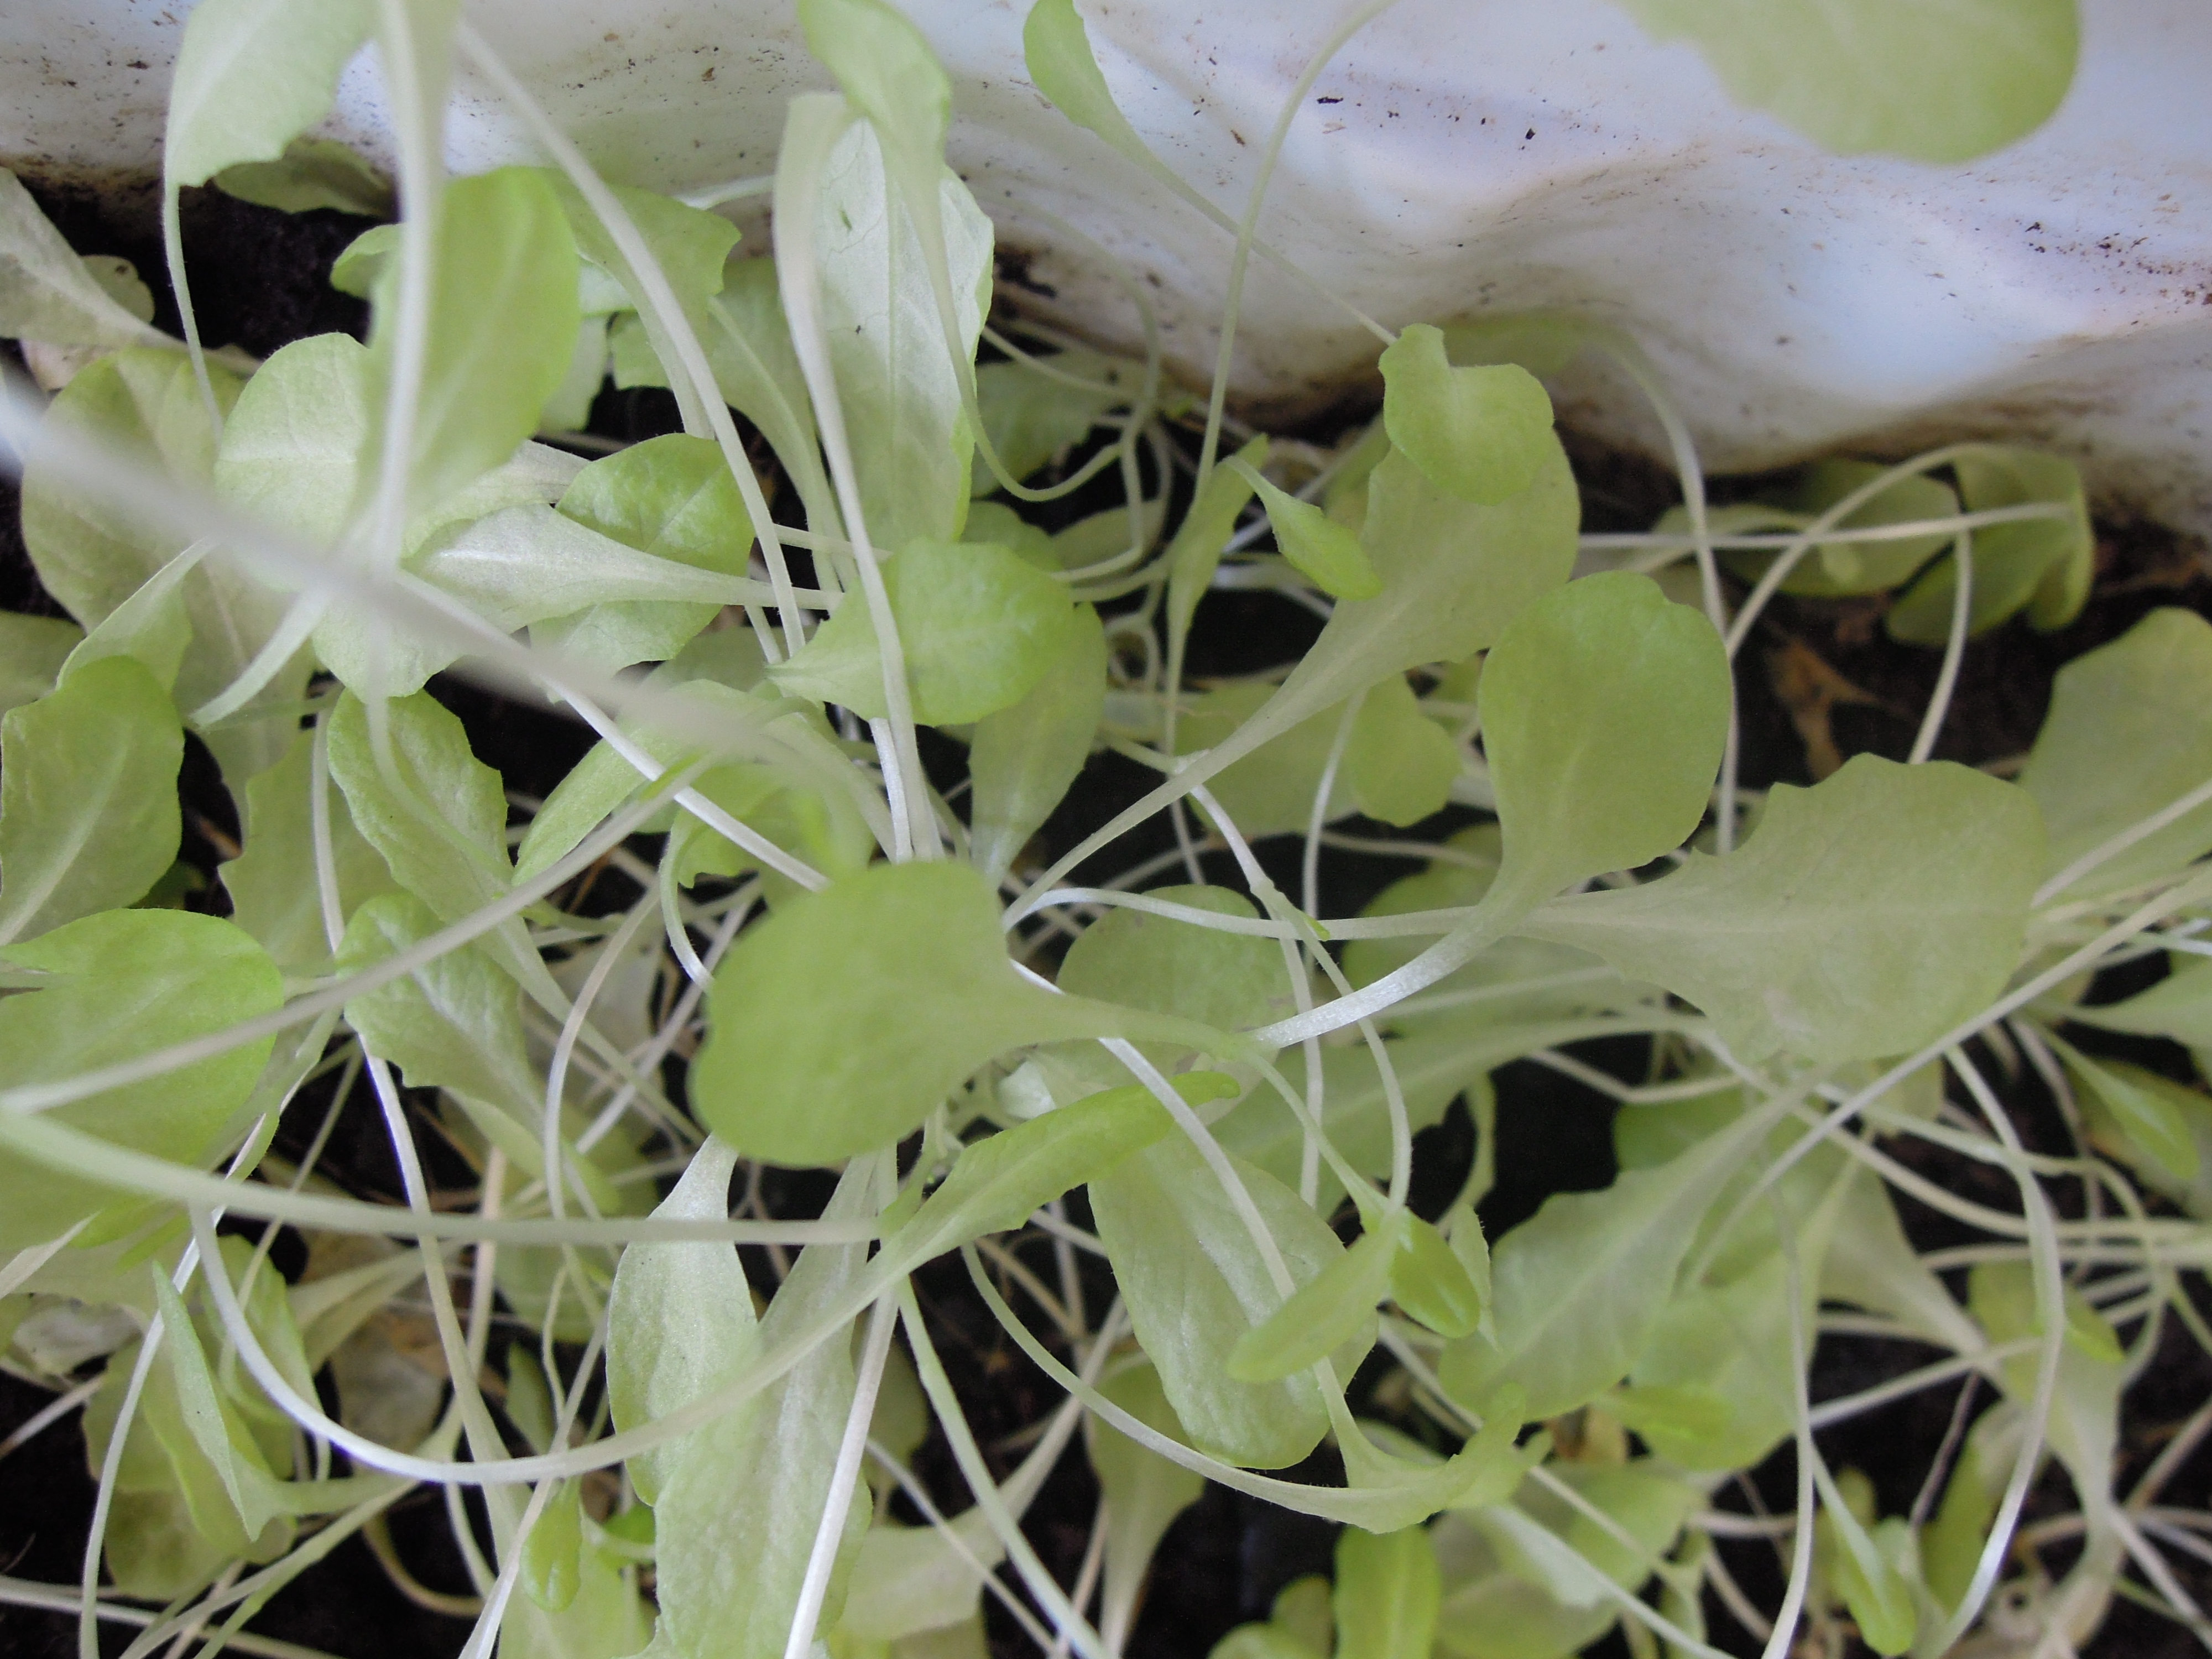weeek6: (601, 347, 2087, 1551)
